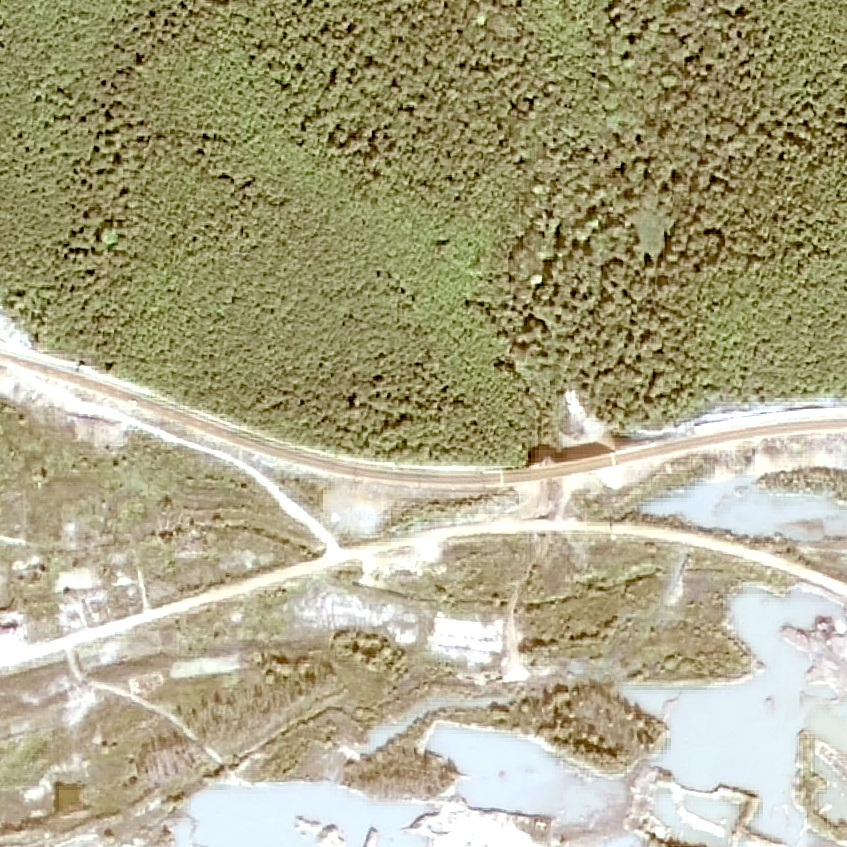slope: (323, 480, 399, 539), (551, 386, 611, 449)
